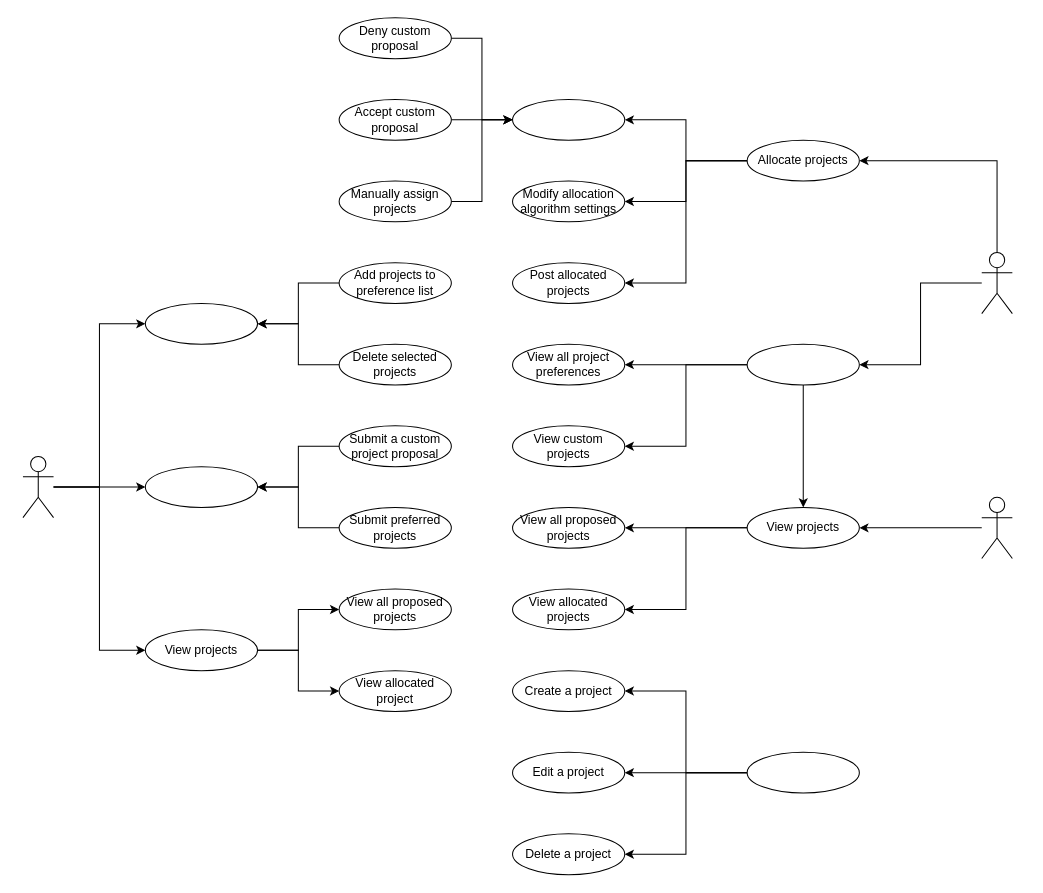
Image size: 1043x893. Some labels were removed from this diagram. Each missing label, with the centre of its shape:
Admin: the point at 996,282
Amend Projects: the point at 802,772
Interact with projects: the point at 201,323
Modify project allocations: the point at 568,119
Student: the point at 38,486
Submit projects: the point at 201,486
Supervisor: the point at 996,527
View all projects: the point at 802,364
